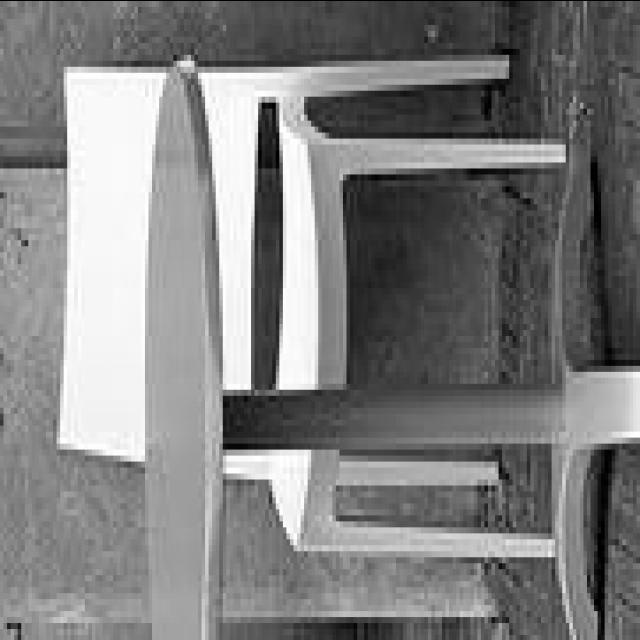chair: (55, 52, 564, 564)
